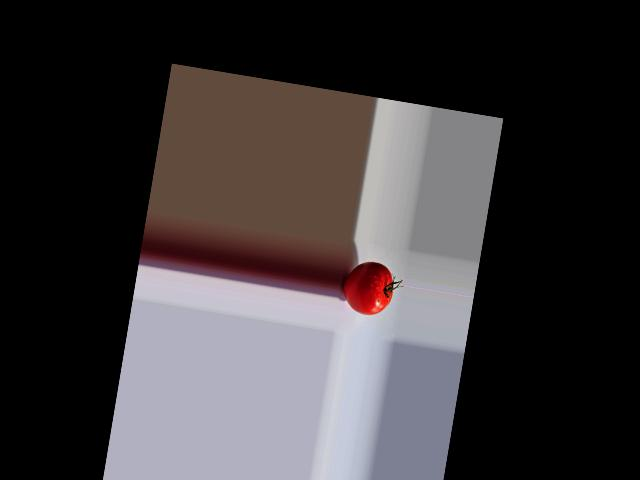tomato: (339, 258, 396, 318)
